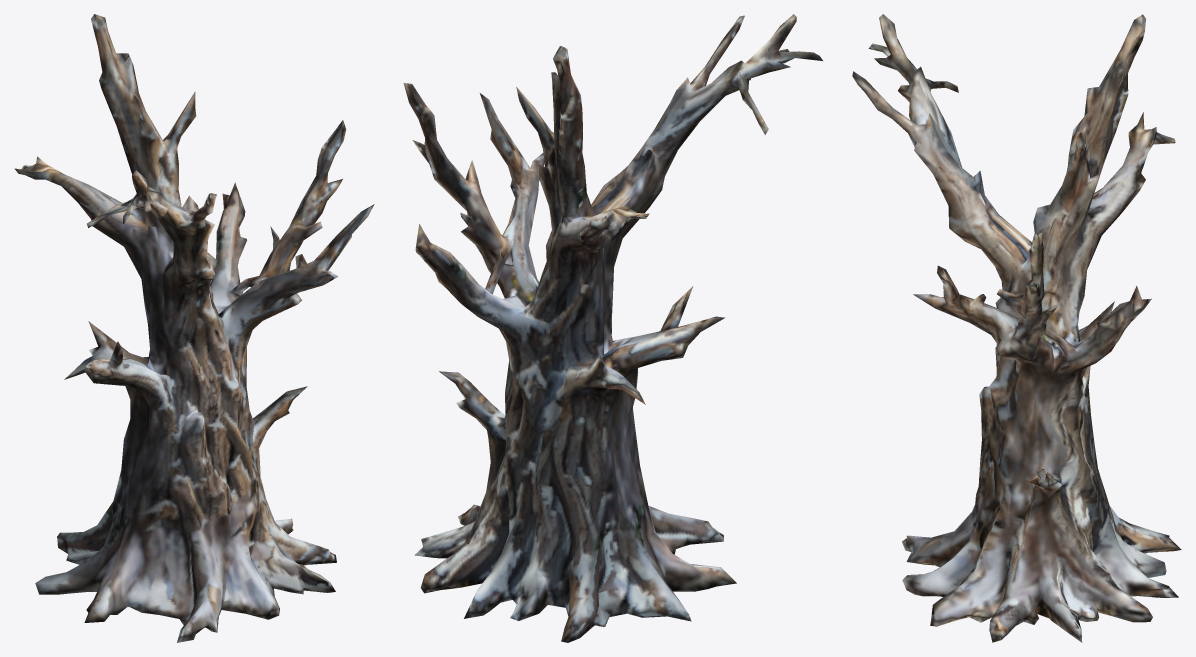
File: FirstRoom_AncientTree.fbx
3 renders of one model, left to right at view 1: azimuth 30°, elevation 25°; view 2: azimuth 150°, elevation 25°; view 3: azimuth 270°, elevation 25°, orthographic. The views are drawn at different scales.
Parts seen in each view (by area): view 1: FirstRoom_AncientTree_Mesh; view 2: FirstRoom_AncientTree_Mesh; view 3: FirstRoom_AncientTree_Mesh.
Boxes of the visible parts, x1,y1,x2,y2 form: FirstRoom_AncientTree_Mesh: (14, 14, 374, 642); FirstRoom_AncientTree_Mesh: (403, 14, 822, 642); FirstRoom_AncientTree_Mesh: (852, 14, 1181, 642).
Size of the model in its own units: 3.56 by 6 by 3.27.
1 material, 1 textured.
